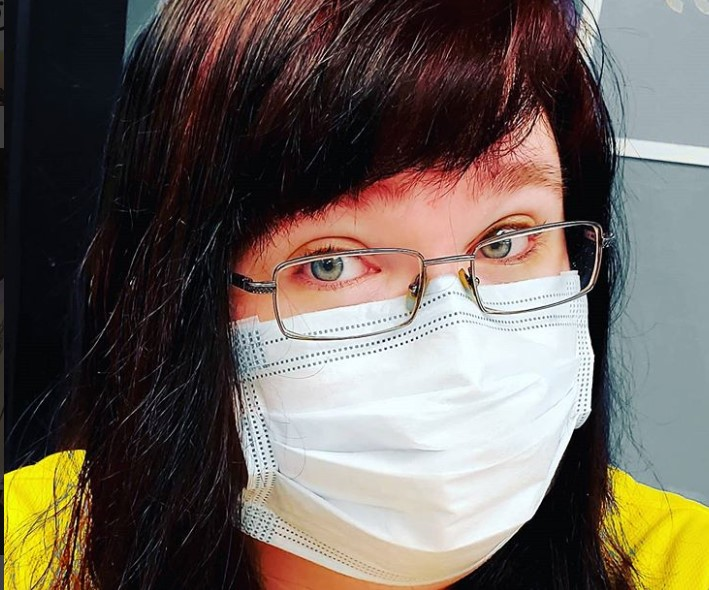face_with_mask: (101, 9, 613, 585)
